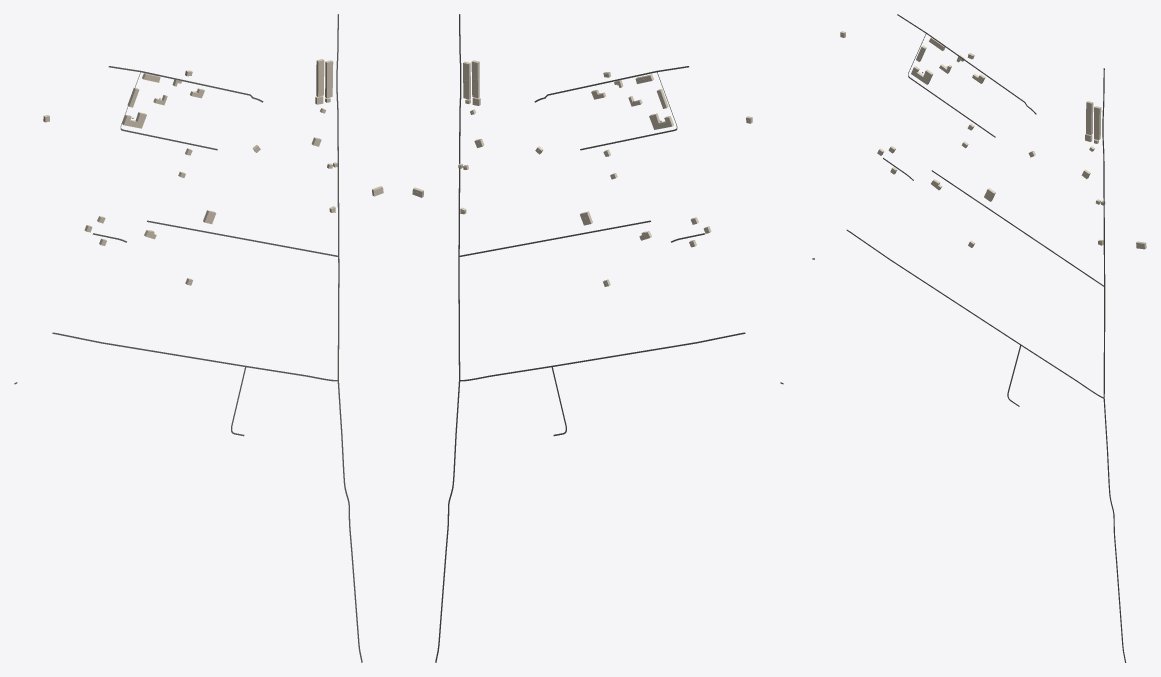
The model's file is irbid_3592_3254.glb.
The picture shows the model from 3 angles, left to right: view 1: azimuth 30°, elevation 25°; view 2: azimuth 150°, elevation 25°; view 3: azimuth 330°, elevation 25°; orthographic projection. The views are drawn at different scales.
Visible parts, largest first — view 1: Road .006, Road .002; view 2: Road .006, Road .002; view 3: Road .006, Road .002.
Part boxes in pixels (<box>): Road .006: <box>336,14,362,662</box>; Road .002: <box>52,332,338,381</box>; Road .006: <box>435,14,461,662</box>; Road .002: <box>460,332,745,381</box>; Road .006: <box>1102,68,1126,662</box>; Road .002: <box>846,229,1104,398</box>.
Bounding box in the file's own units: 872 × 1485 × 8.7.
